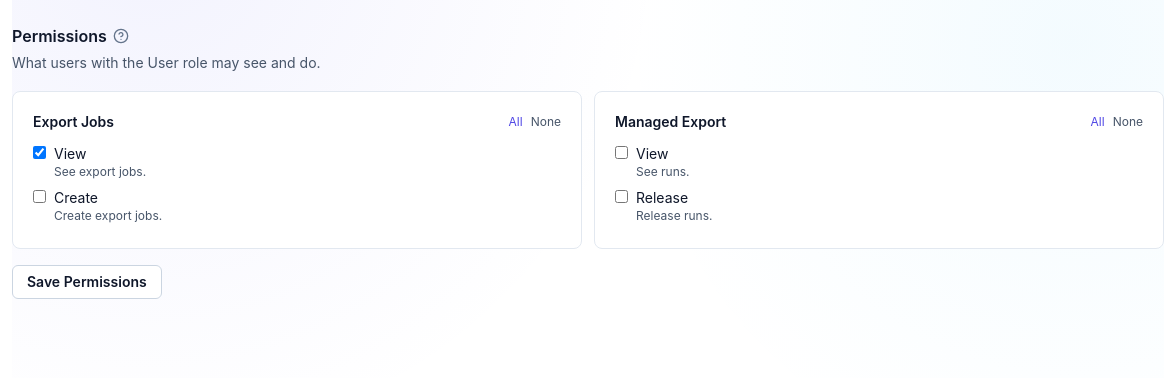
Test: PermissionsSettings › saves the ticked set
Step 1. Click the button "Save Permissions" → (87, 282), box [12,265,162,299]
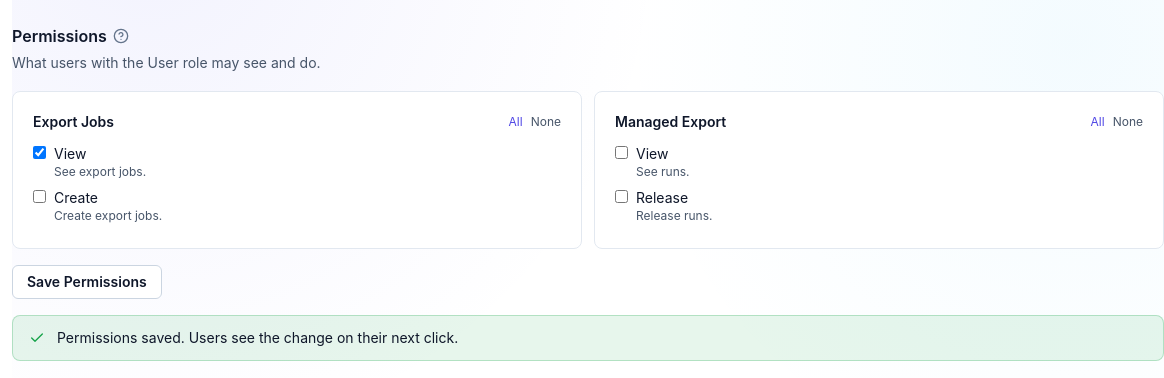
Result: the text "Permissions saved." is shown at [57,329,458,346]
